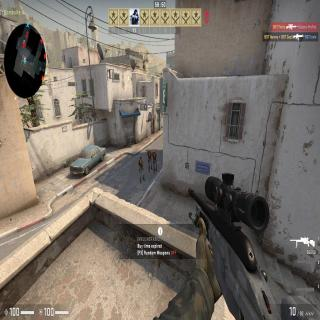T-Body: (138, 155, 144, 183), (146, 148, 152, 172), (152, 150, 158, 173)
T-Head: (139, 155, 142, 160), (153, 150, 155, 154), (148, 149, 150, 152)
